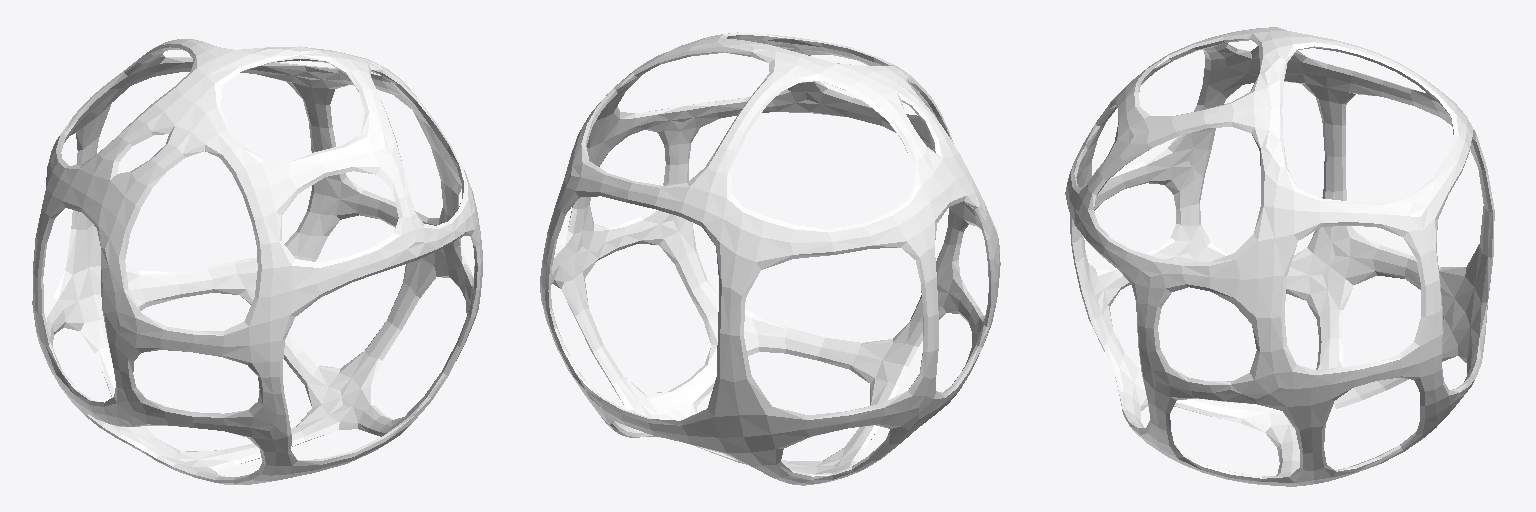
Rendered from Hole Planet.obj.
The picture shows the model from 3 angles: view 1: azimuth 30°, elevation 25°; view 2: azimuth 150°, elevation 25°; view 3: azimuth 270°, elevation 25°; orthographic projection.
Visible parts, largest first — view 1: hole, hole hole2; view 2: hole, hole hole2; view 3: hole, hole hole2.
Boxes of the visible parts, x1=… form: hole: x1=32, y1=39, x2=482, y2=484; hole hole2: x1=41, y1=47, x2=477, y2=479; hole: x1=540, y1=32, x2=1000, y2=485; hole hole2: x1=548, y1=35, x2=990, y2=476; hole: x1=1065, y1=27, x2=1494, y2=486; hole hole2: x1=1072, y1=39, x2=1492, y2=478.
Bounding box in the file's own units: 2140 × 2155 × 2047.